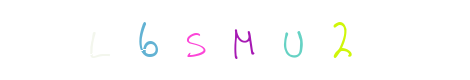2: (302, 0, 382, 80)
6: (173, 0, 253, 80)
L: (170, 0, 250, 80)
M: (202, 0, 282, 80)
S: (194, 0, 274, 80)
U: (301, 0, 381, 80)
